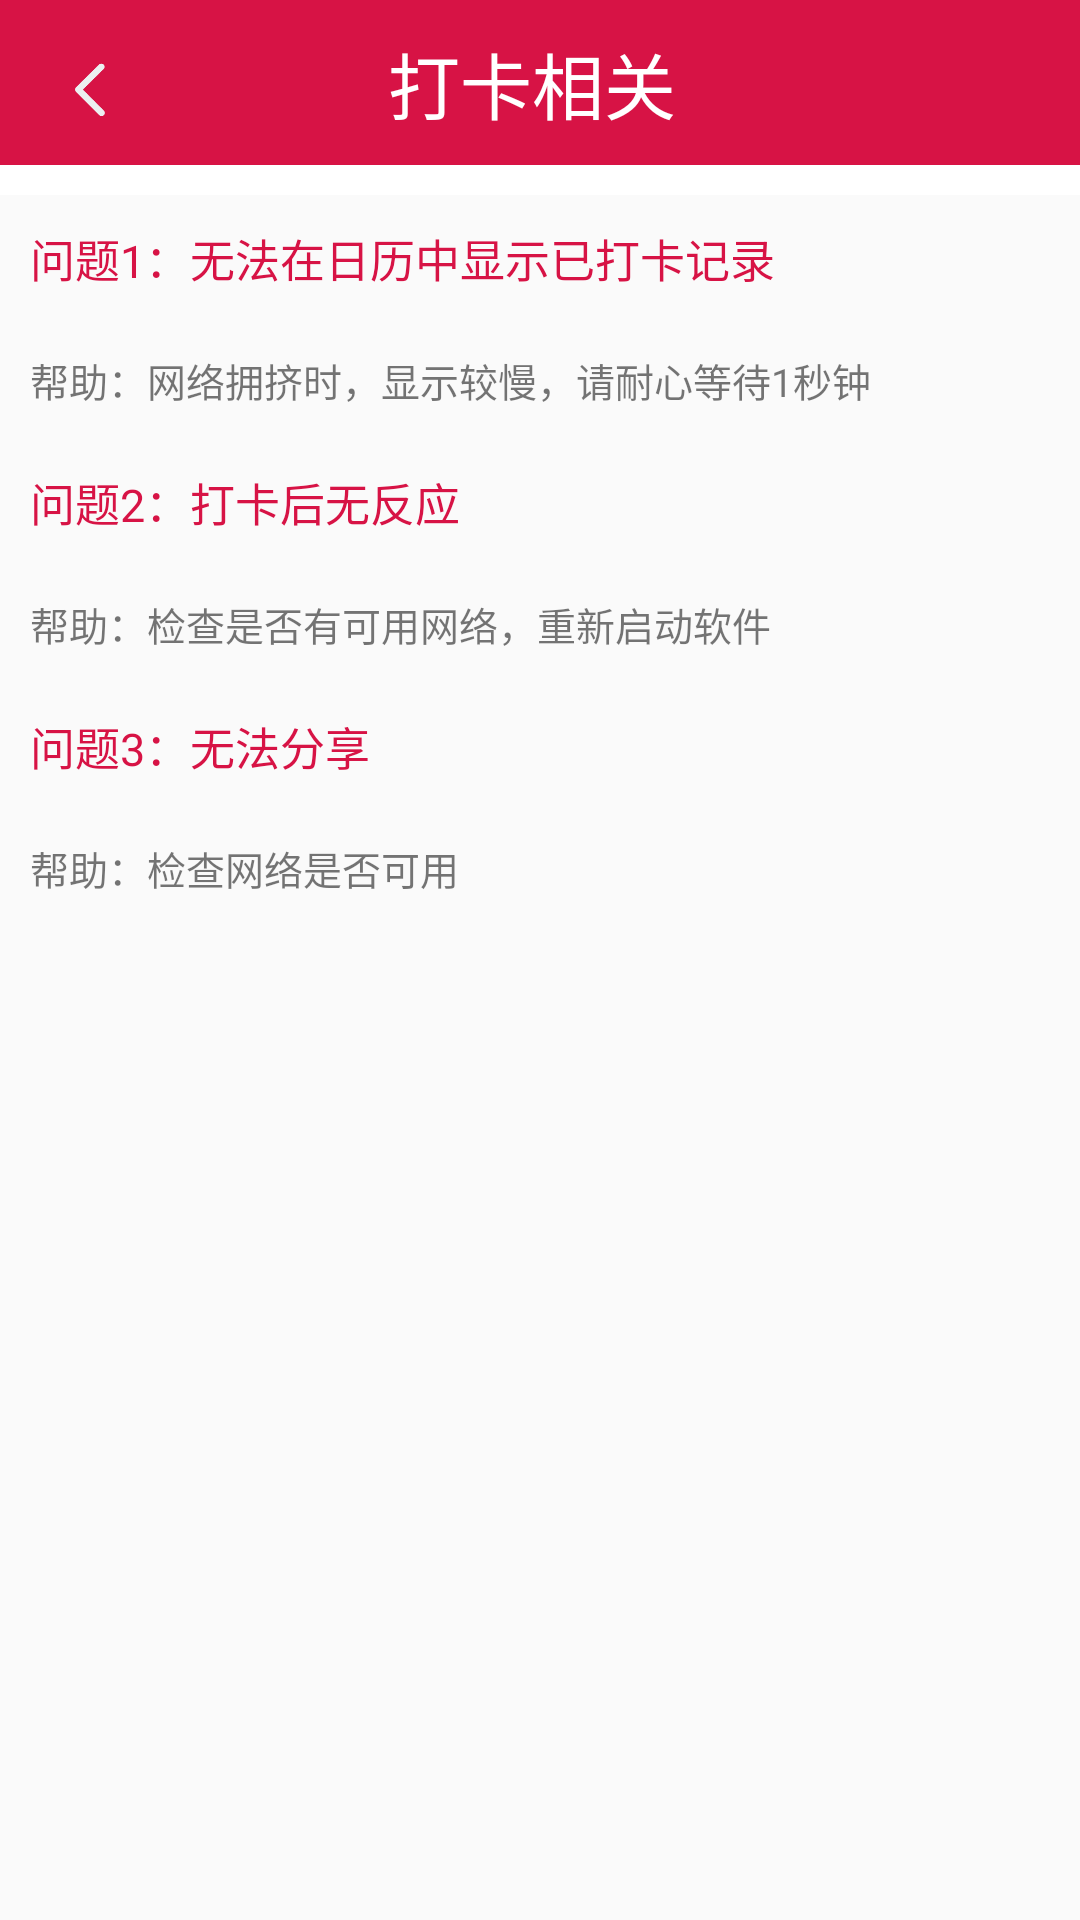

Screen size 1080×1920. Icon name, then its center in pixels as [x,y]:
back: [90,89]
